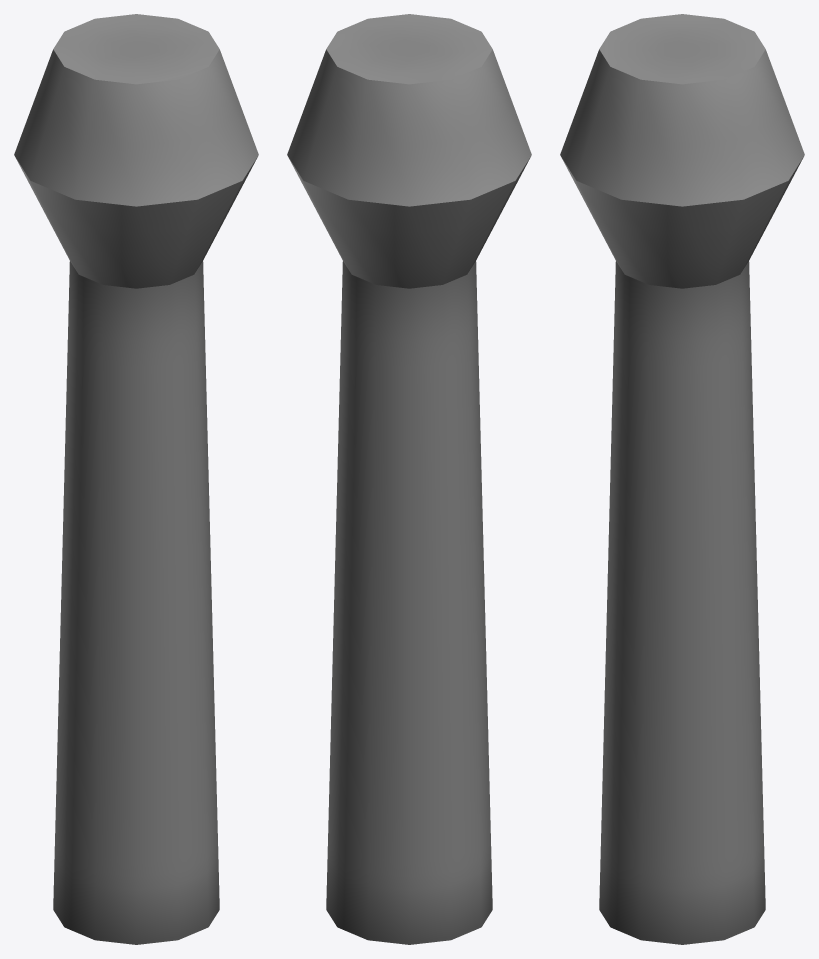
Rendered from Eridani_DockingMechanism_1_Probe.obj.
3 renders of one model, left to right at view 1: azimuth 30°, elevation 25°; view 2: azimuth 150°, elevation 25°; view 3: azimuth 270°, elevation 25°, orthographic.
Parts seen in each view (by area): view 1: Eridani_DockingMechanism_1_Probe; view 2: Eridani_DockingMechanism_1_Probe; view 3: Eridani_DockingMechanism_1_Probe.
Part boxes in pixels (x1=…): Eridani_DockingMechanism_1_Probe: x1=14, y1=14, x2=258, y2=944; Eridani_DockingMechanism_1_Probe: x1=287, y1=14, x2=531, y2=944; Eridani_DockingMechanism_1_Probe: x1=560, y1=14, x2=804, y2=944.
Size of the model in its own units: 0.0735 by 0.285 by 0.0735.
